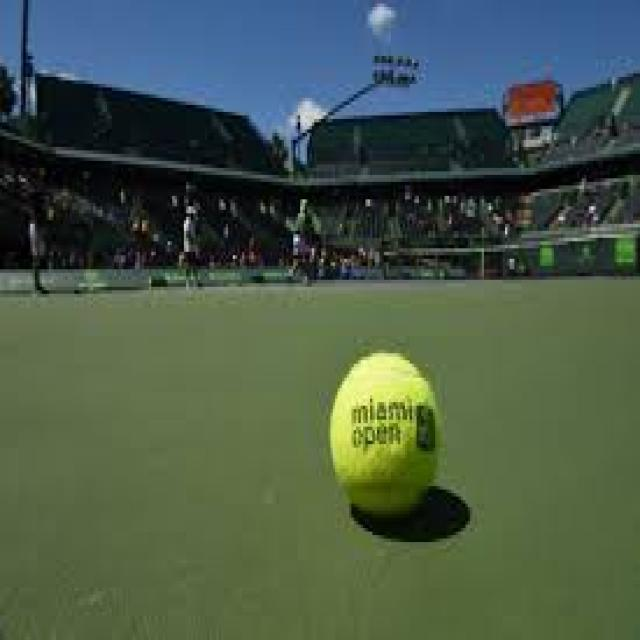ball: (322, 344, 456, 532)
